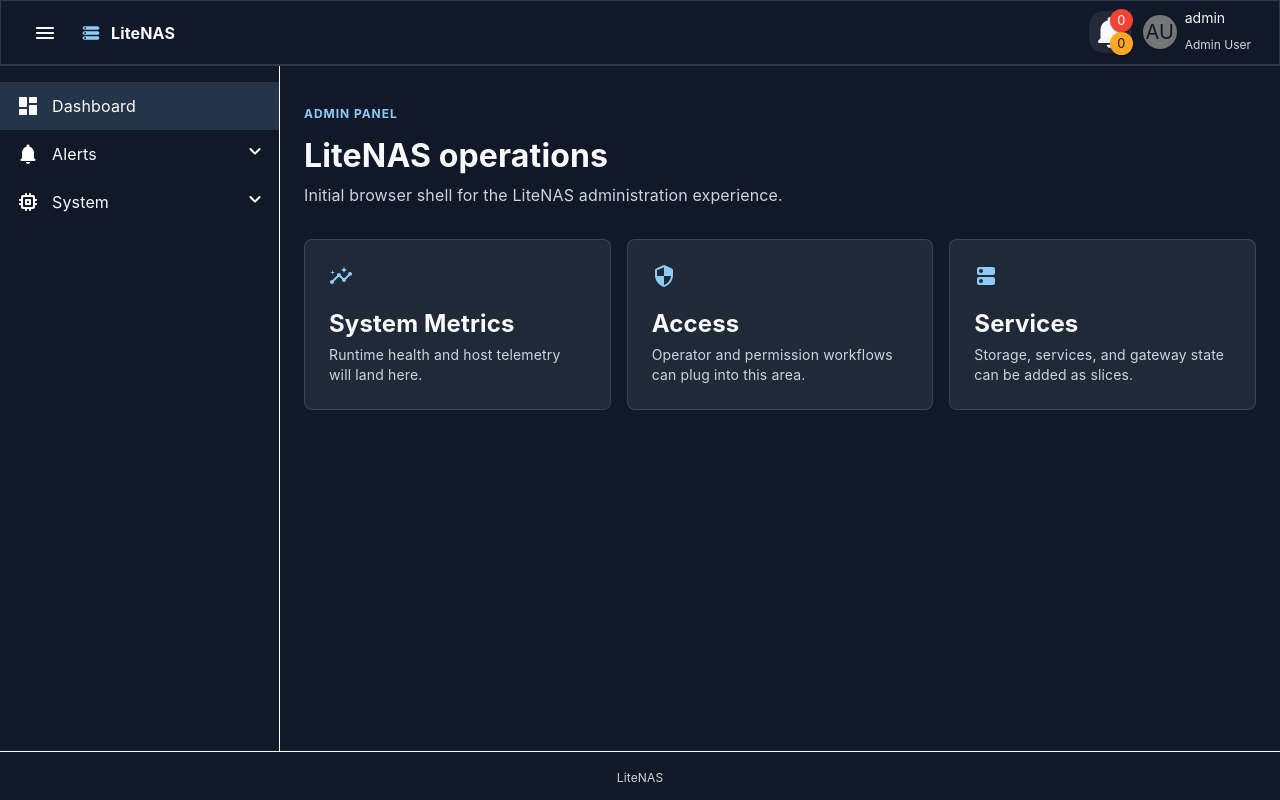
Test case: application providers › switches desktop sidebar mode from the app shell
Click the button named "Collapse sidebar".
click(45, 32)  # box [25,12,65,52]
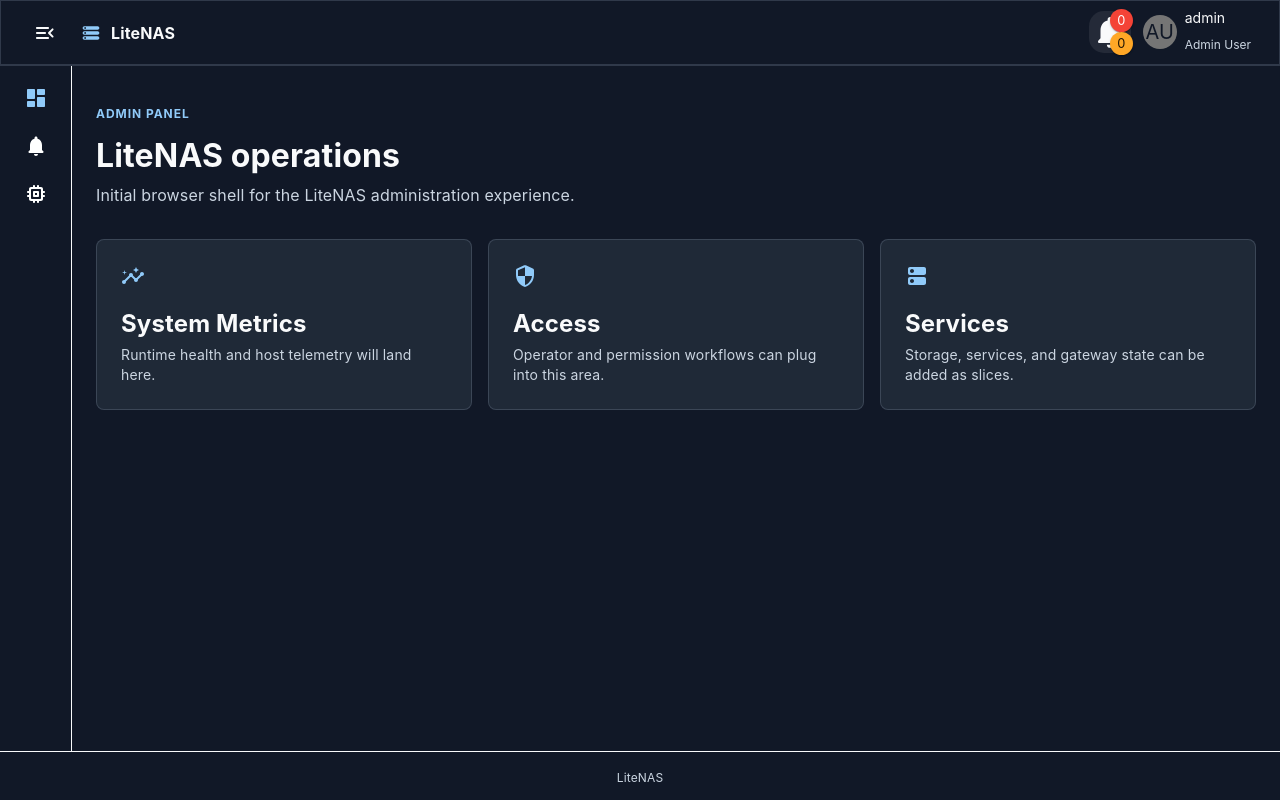
Expected: the button named "Expand sidebar" is shown, [25,12,65,52]
